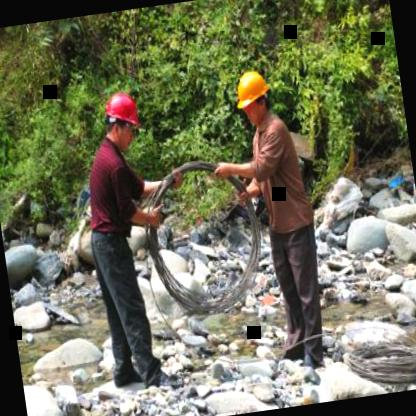helmet: (99, 88, 145, 154), (230, 64, 275, 130)
